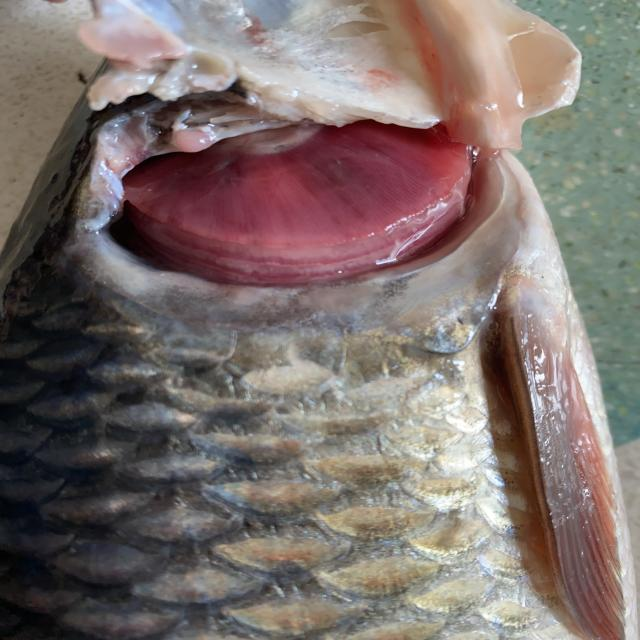Fresh: (81, 77, 509, 296)
